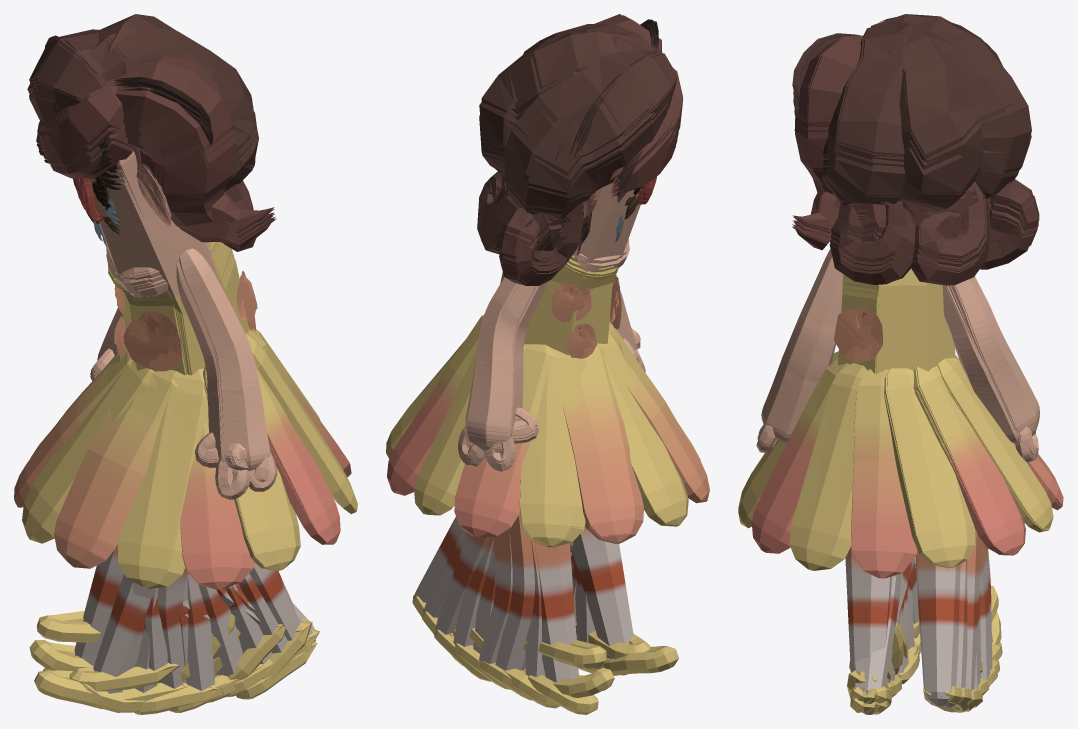
File: Momsad-walk.fbx
3 renders of one model, left to right at view 1: azimuth 30°, elevation 25°; view 2: azimuth 150°, elevation 25°; view 3: azimuth 270°, elevation 25°, orthographic. The views are drawn at different scales.
Visible parts, largest first — view 1: Legs; view 2: Legs; view 3: Legs.
Boxes of the visible parts, <box> form: Legs: <box>14,14,357,714</box>; Legs: <box>386,14,709,714</box>; Legs: <box>738,14,1063,714</box>.
Size of the model in its own units: 1.23 by 2.7 by 1.23.
